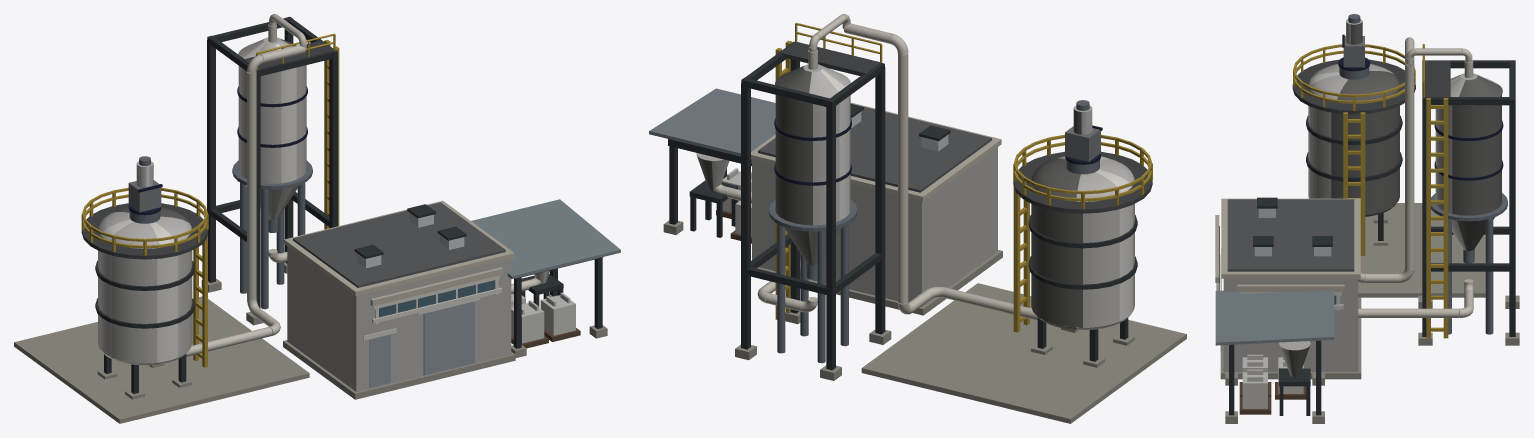
File: poly_plant_lvl1.glb
The picture shows the model from 3 angles, left to right: view 1: azimuth 30°, elevation 25°; view 2: azimuth 150°, elevation 25°; view 3: azimuth 270°, elevation 25°; orthographic projection. The views are drawn at different scales.
Parts seen in each view (by area): view 1: poly_plant_v2, poly_plant_v2_Glass; view 2: poly_plant_v2; view 3: poly_plant_v2.
Boxes of the visible parts, left/top/right/bottom form: poly_plant_v2: left=14, top=14, right=620, bottom=423; poly_plant_v2_Glass: left=379, top=280, right=494, bottom=317; poly_plant_v2: left=649, top=14, right=1186, bottom=423; poly_plant_v2: left=1215, top=14, right=1519, bottom=423.
Bounding box in the file's own units: 1 × 0.5826 × 0.5826.
